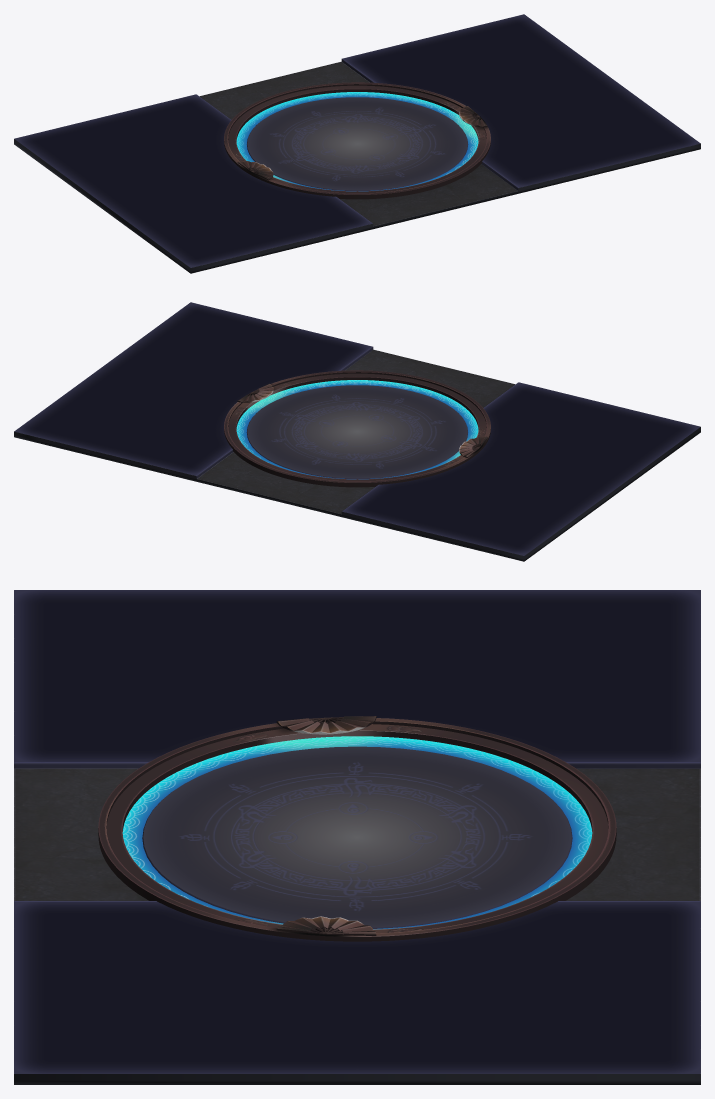
Rendered from table.fbx.
The picture shows the model from 3 angles, top to bottom: view 1: azimuth 30°, elevation 25°; view 2: azimuth 150°, elevation 25°; view 3: azimuth 270°, elevation 25°; orthographic projection. The views are drawn at different scales.
Parts seen in each view (by area): view 1: 桌子, 柱体; view 2: 桌子, 柱体; view 3: 桌子, 柱体.
Part boxes in pixels (x1,y1,x2,y2): 桌子: (14,14,700,273); 柱体: (224,82,490,199); 桌子: (14,302,700,561); 柱体: (224,370,490,487); 桌子: (14,590,700,1084); 柱体: (98,716,616,941).
Bounding box in the file's own units: 4000 × 72.87 × 2400.
Materials: 2 (2 with a texture image).
